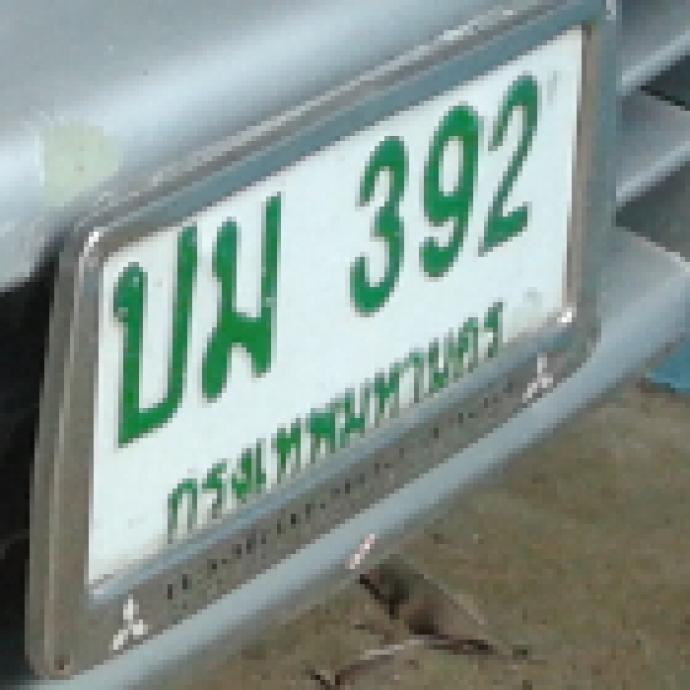2: (484, 73, 540, 256)
3: (349, 136, 410, 320)
9: (421, 104, 480, 283)
A26: (109, 222, 196, 451)
A33: (203, 192, 282, 403)
BKK: (167, 301, 504, 543)
